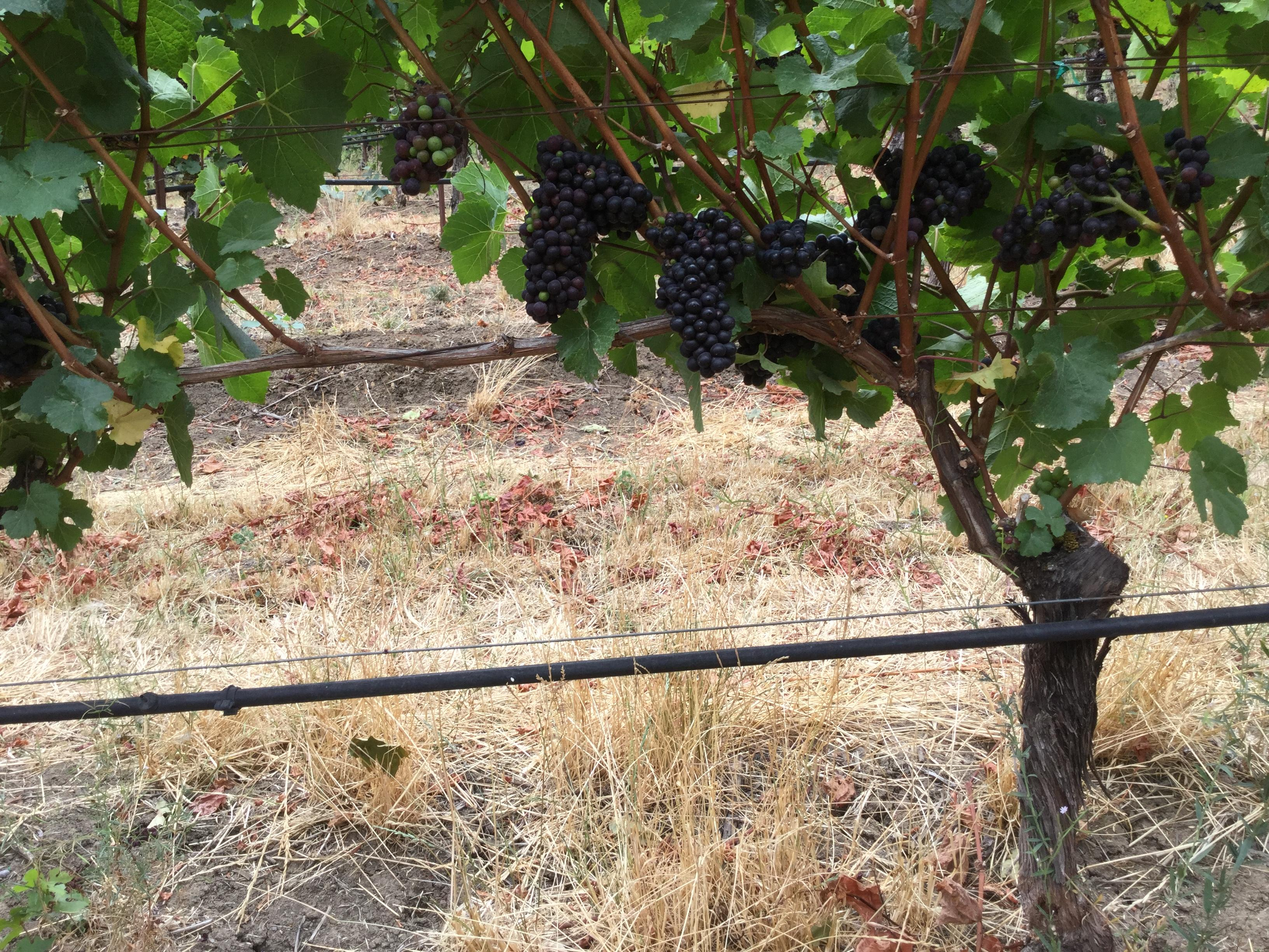leaf: (233, 27, 350, 210), (1028, 328, 1118, 428), (441, 163, 507, 283), (0, 139, 97, 219), (0, 482, 93, 550), (1147, 382, 1237, 451), (1066, 413, 1152, 484), (643, 333, 703, 431), (1189, 436, 1247, 534), (441, 197, 505, 283), (591, 244, 661, 320), (552, 302, 619, 381), (134, 254, 198, 332), (61, 202, 116, 288), (202, 282, 261, 357), (145, 0, 202, 75), (41, 374, 112, 433), (178, 35, 238, 103), (774, 50, 862, 94), (1205, 122, 1268, 179), (118, 348, 179, 406), (1202, 332, 1260, 391), (0, 481, 60, 538), (219, 200, 281, 255), (639, 0, 717, 42), (162, 390, 194, 486), (191, 307, 243, 365), (260, 267, 310, 319), (105, 399, 159, 445), (135, 317, 184, 366), (854, 43, 912, 84), (79, 438, 140, 472), (216, 253, 265, 291), (1023, 495, 1066, 537), (398, 0, 440, 43), (116, 219, 148, 275), (753, 125, 803, 158), (496, 246, 526, 300), (223, 371, 270, 404), (1014, 520, 1054, 557), (192, 162, 221, 212), (927, 0, 974, 30), (3, 0, 65, 19), (608, 342, 637, 376), (209, 86, 235, 114), (100, 203, 121, 226), (260, 11, 279, 28), (177, 325, 185, 331), (521, 270, 523, 287), (208, 164, 213, 167), (184, 333, 187, 338), (168, 361, 170, 368), (199, 319, 200, 323), (238, 330, 240, 332), (243, 335, 245, 336), (509, 252, 509, 254)
